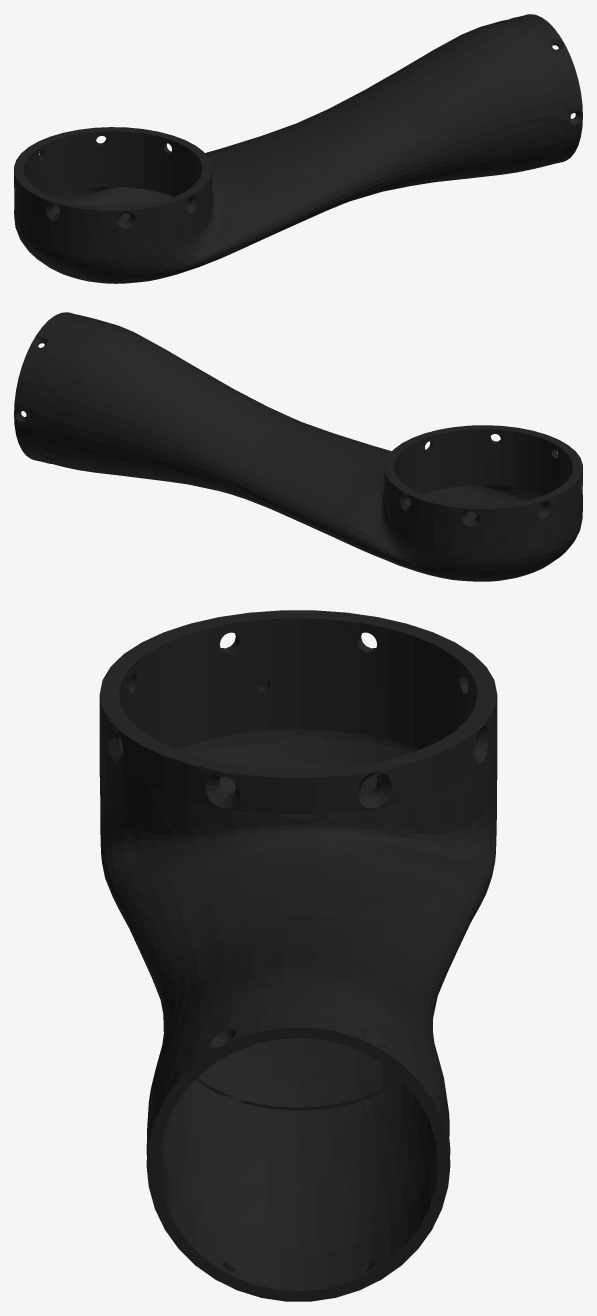
File: jaco_link_3.dae
3 renders of one model, top to bottom at view 1: azimuth 30°, elevation 25°; view 2: azimuth 150°, elevation 25°; view 3: azimuth 270°, elevation 25°, orthographic. The views are drawn at different scales.
Visible parts, largest first — view 1: skp87C6 (×4); view 2: skp87C6 (×4); view 3: skp87C6 (×5).
Part boxes in pixels (box(x1,y1,x2,y2)): skp87C6 (×4): box(14, 14, 582, 283); skp87C6 (×4): box(14, 312, 582, 581); skp87C6 (×5): box(99, 610, 497, 1301).
Bounding box in the file's own units: 385 × 128 × 97.65.
1 material, 1 textured.
